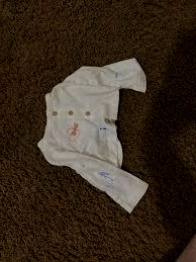ink: (100, 171, 112, 179), (101, 126, 107, 130), (115, 73, 118, 78)
